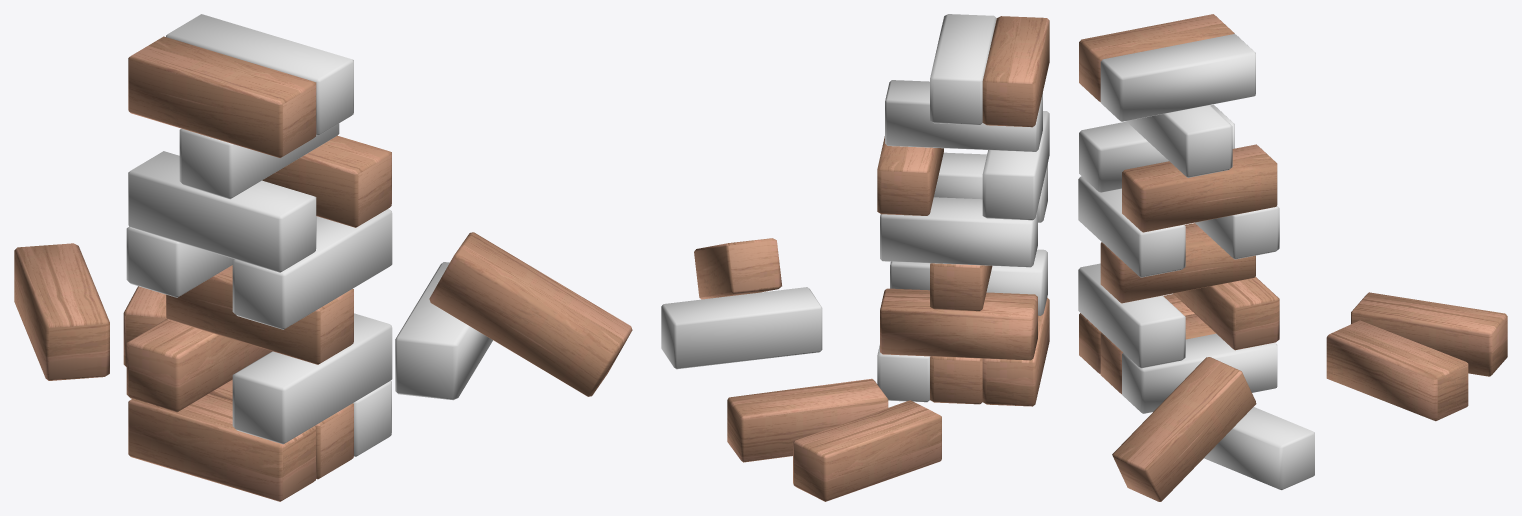
File: Jenga1_Model.fbx
3 views of the same model, side by side, from view 1: azimuth 30°, elevation 25°; view 2: azimuth 150°, elevation 25°; view 3: azimuth 270°, elevation 25° (orthographic). The views are drawn at different scales.
Parts seen in each view (by area): view 1: Jenga1.017, Jenga1.012, Jenga1.009, Jenga1.001, Jenga1.005, Jenga1.014, Jenga1.008, Jenga1.004, Jenga1.006, Jenga1.013, Jenga1.010, Jenga1.016 (+5 smaller); view 2: Jenga1.016, Jenga1.014, Jenga1.004, Jenga1.007, Jenga1.015, Jenga1.012, Jenga1.011, Jenga1.013, Jenga1.009, Jenga1.017, Jenga1.010, Jenga1.001 (+5 smaller); view 3: Jenga1.017, Jenga1.013, Jenga1.015, Jenga1.010, Jenga1.014, Jenga1.005, Jenga1.016, Jenga1.006, Jenga1.003, Jenga1.008, Jenga1.011, Jenga1.004 (+5 smaller).
Part boxes in pixels (left/top/right/bottom): Jenga1.017: left=429, top=232, right=632, bottom=396; Jenga1.012: left=128, top=36, right=316, bottom=157; Jenga1.009: left=128, top=151, right=316, bottom=272; Jenga1.001: left=128, top=394, right=316, bottom=501; Jenga1.005: left=232, top=313, right=392, bottom=444; Jenga1.014: left=14, top=243, right=109, bottom=380; Jenga1.008: left=232, top=209, right=392, bottom=329; Jenga1.004: left=126, top=319, right=271, bottom=412; Jenga1.006: left=166, top=265, right=353, bottom=364; Jenga1.013: left=166, top=14, right=353, bottom=135; Jenga1.010: left=262, top=135, right=391, bottom=227; Jenga1.016: left=395, top=262, right=492, bottom=400; Jenga1.016: left=661, top=287, right=822, bottom=369; Jenga1.014: left=793, top=400, right=941, bottom=501; Jenga1.004: left=880, top=288, right=1037, bottom=360; Jenga1.007: left=880, top=197, right=1037, bottom=267; Jenga1.015: left=727, top=378, right=888, bottom=462; Jenga1.012: left=982, top=16, right=1049, bottom=127; Jenga1.011: left=885, top=80, right=1042, bottom=151; Jenga1.013: left=930, top=14, right=996, bottom=124; Jenga1.009: left=982, top=111, right=1049, bottom=220; Jenga1.017: left=694, top=238, right=781, bottom=299; Jenga1.010: left=877, top=136, right=943, bottom=215; Jenga1.001: left=982, top=298, right=1049, bottom=406; Jenga1.017: left=1112, top=357, right=1256, bottom=501; Jenga1.013: left=1100, top=34, right=1255, bottom=121; Jenga1.015: left=1326, top=320, right=1468, bottom=421; Jenga1.010: left=1122, top=144, right=1277, bottom=232; Jenga1.014: left=1351, top=292, right=1507, bottom=376; Jenga1.005: left=1078, top=263, right=1185, bottom=368; Jenga1.016: left=1204, top=407, right=1314, bottom=490; Jenga1.006: left=1100, top=223, right=1255, bottom=303; Jenga1.003: left=1122, top=333, right=1277, bottom=413; Jenga1.008: left=1078, top=176, right=1185, bottom=277; Jenga1.011: left=1126, top=105, right=1232, bottom=177; Jenga1.004: left=1173, top=277, right=1279, bottom=350.
Size of the model in its own units: 7.2 by 7.06 by 5.88.
